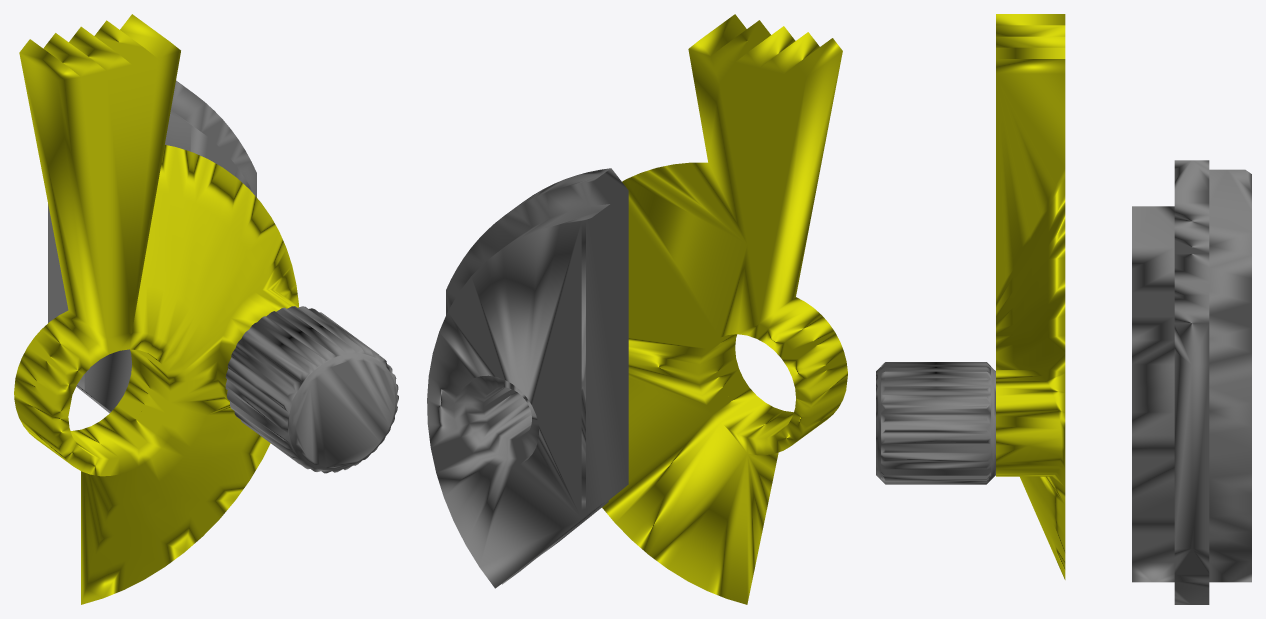
The model's file is bennettinsert_left_metal_deco.obj.
The picture shows the model from 3 angles, left to right: view 1: azimuth 30°, elevation 25°; view 2: azimuth 150°, elevation 25°; view 3: azimuth 270°, elevation 25°; orthographic projection. The views are drawn at different scales.
Bounding box in the file's own units: 23.75 × 43.3 × 28.2.
